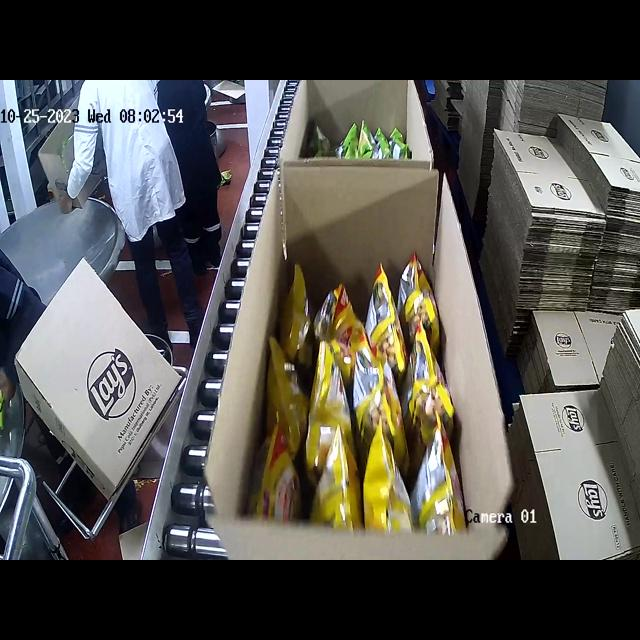salted: (289, 261, 433, 560)
yogurt: (308, 106, 422, 156)
